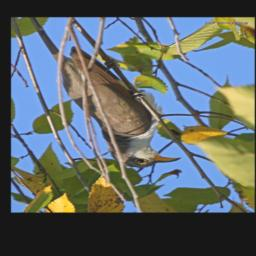Cuckoo: (60, 46, 212, 168)
